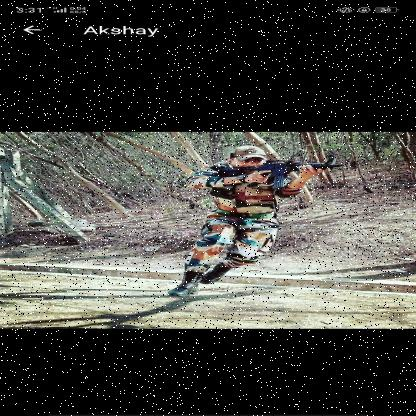rifle: (216, 157, 346, 189)
